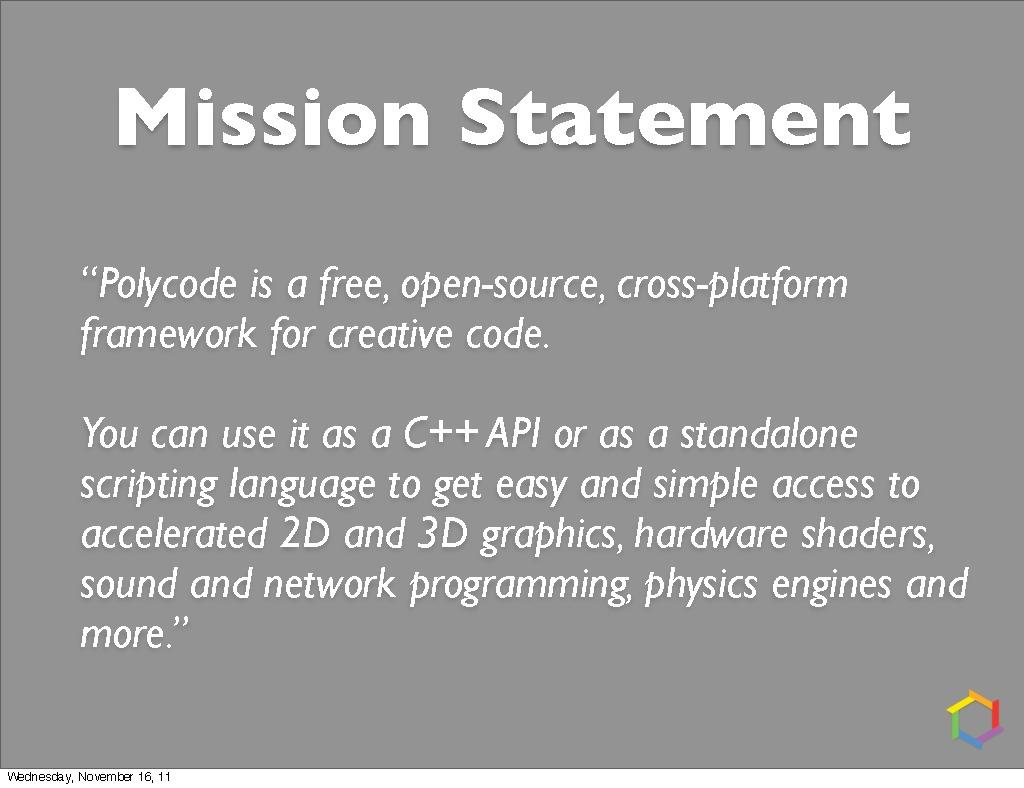paragraph: (63, 237, 994, 679)
title: (102, 70, 925, 168)
